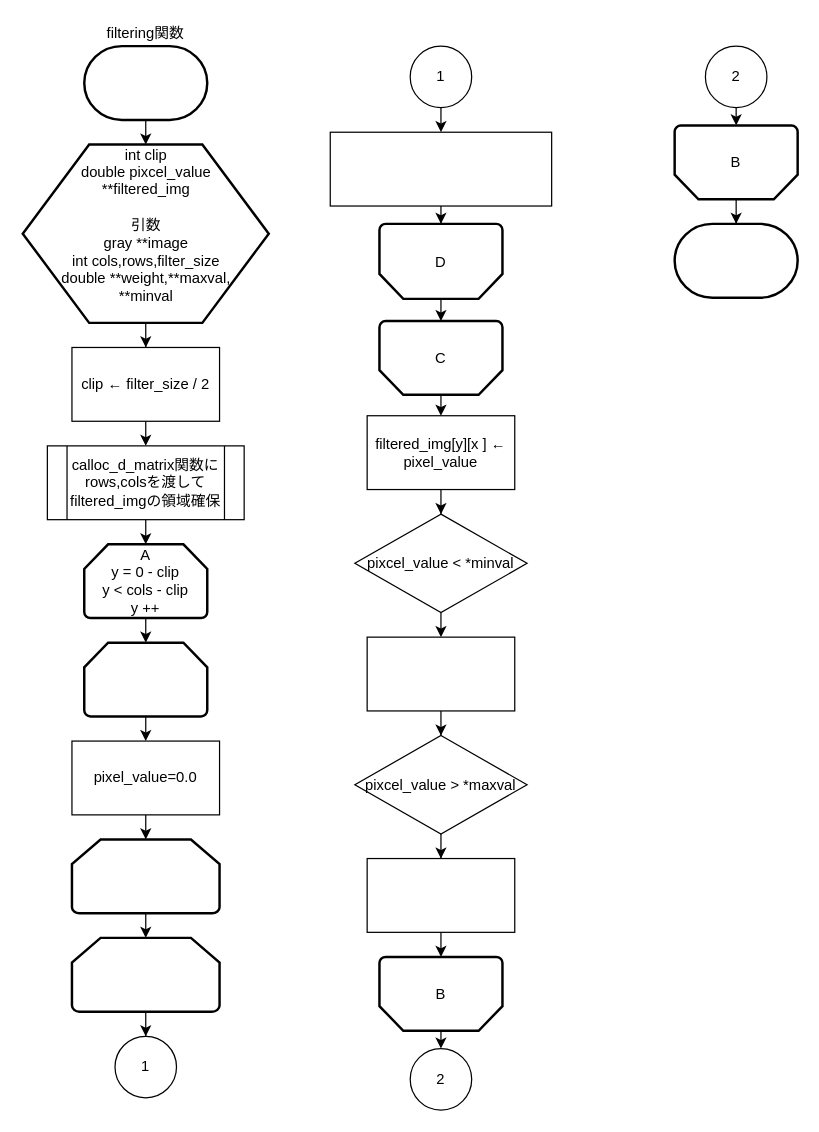
The diagram is 819 pixels wide and 1132 high, and some of its shapes have lost their labels. The box of each missing label's shape, as (x1, y1, x2, y2) in pixels:
*maxval ← pixel_value: (366, 857, 515, 932)
*minval ← pixel_value: (366, 636, 515, 711)
B x = 0 - clip x < rows - clip x ++: (82, 641, 208, 717)
C i = 0 - clip i < filter_size - clip i ++: (70, 838, 220, 914)
D j = 0 - clip j < filter_size - clip j ++: (70, 936, 220, 1012)
pixel_value ← pixel_value + weight[i + clip][ j + clip] × image[y + i][x + j]: (329, 131, 552, 206)
終了: (673, 222, 798, 298)
開始: (82, 44, 208, 121)
